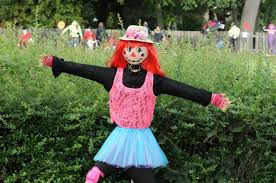person-like: (38, 21, 233, 183)
